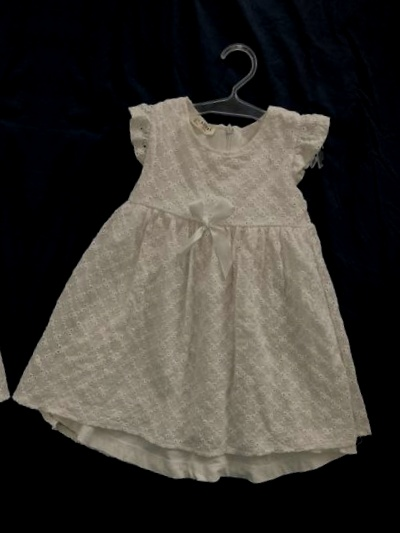Dress: (7, 50, 400, 510), (0, 8, 47, 467)
